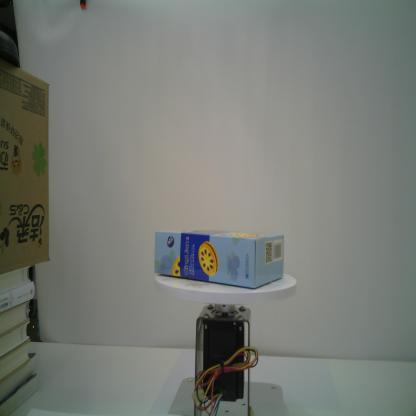Dessert: (154, 228, 285, 289)
